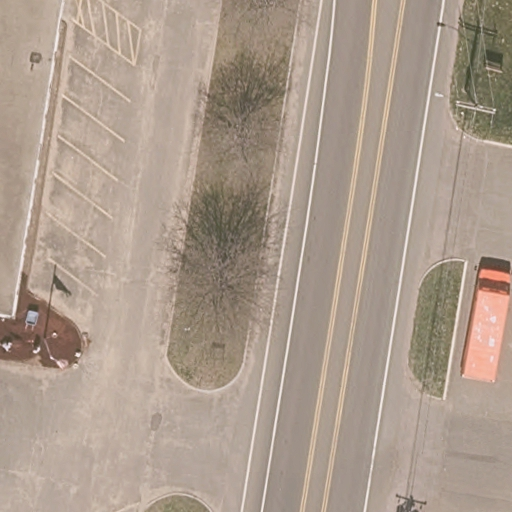DT: (455, 100, 496, 119)
